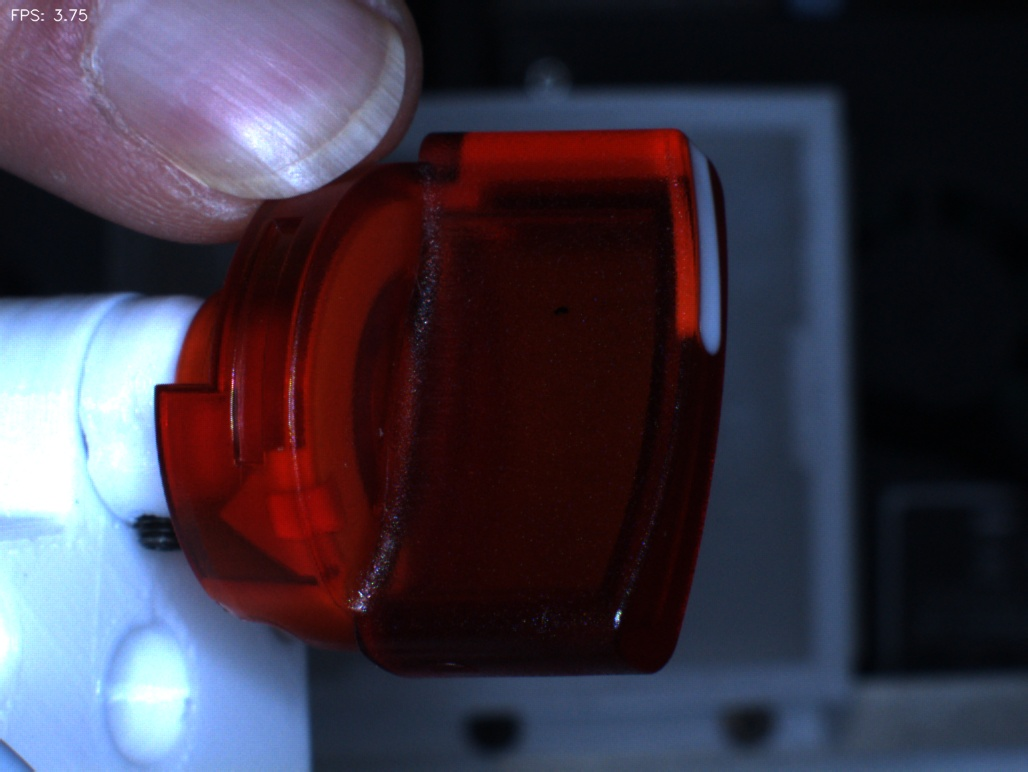PointNoir: (520, 266, 598, 355)
